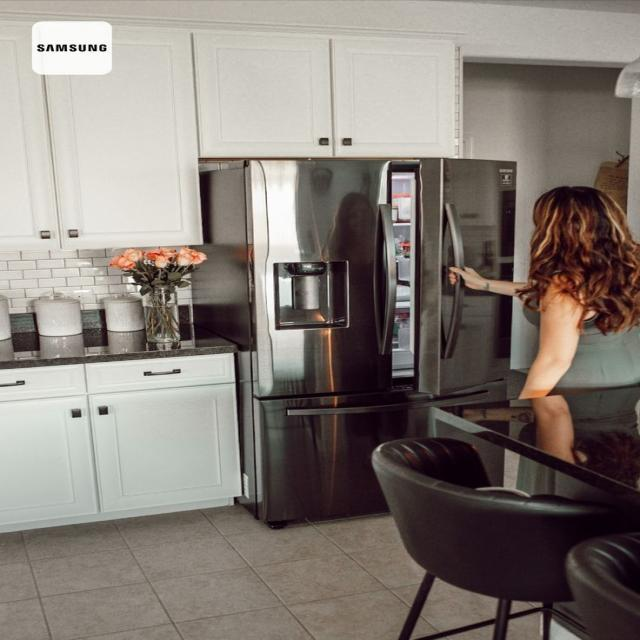obstacle: (189, 156, 516, 528), (369, 436, 628, 639), (0, 13, 203, 251), (0, 352, 242, 534), (192, 26, 464, 160)
person: (457, 186, 640, 386)
